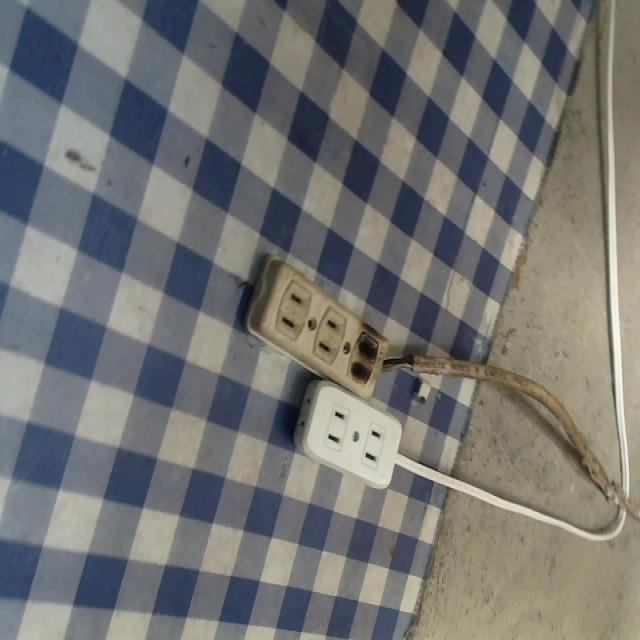-: (344, 323, 389, 392)
